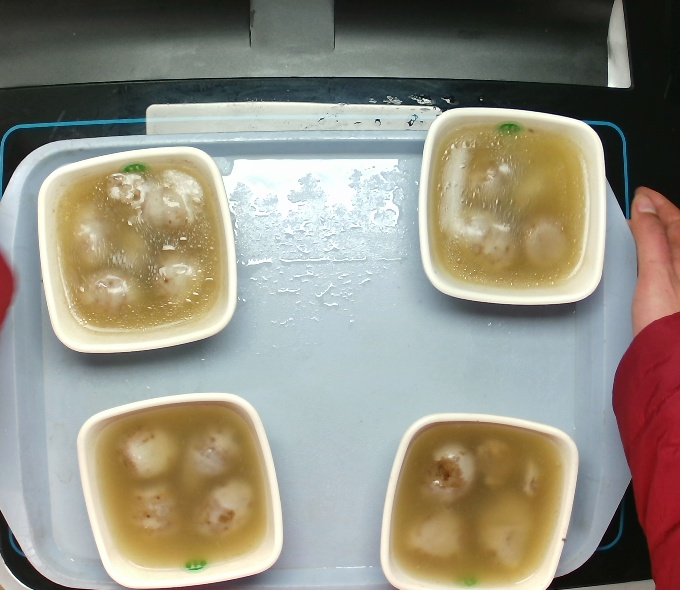wcq-YuTouTang: (93, 400, 273, 576), (386, 417, 569, 590), (50, 158, 228, 334), (430, 121, 594, 292)
